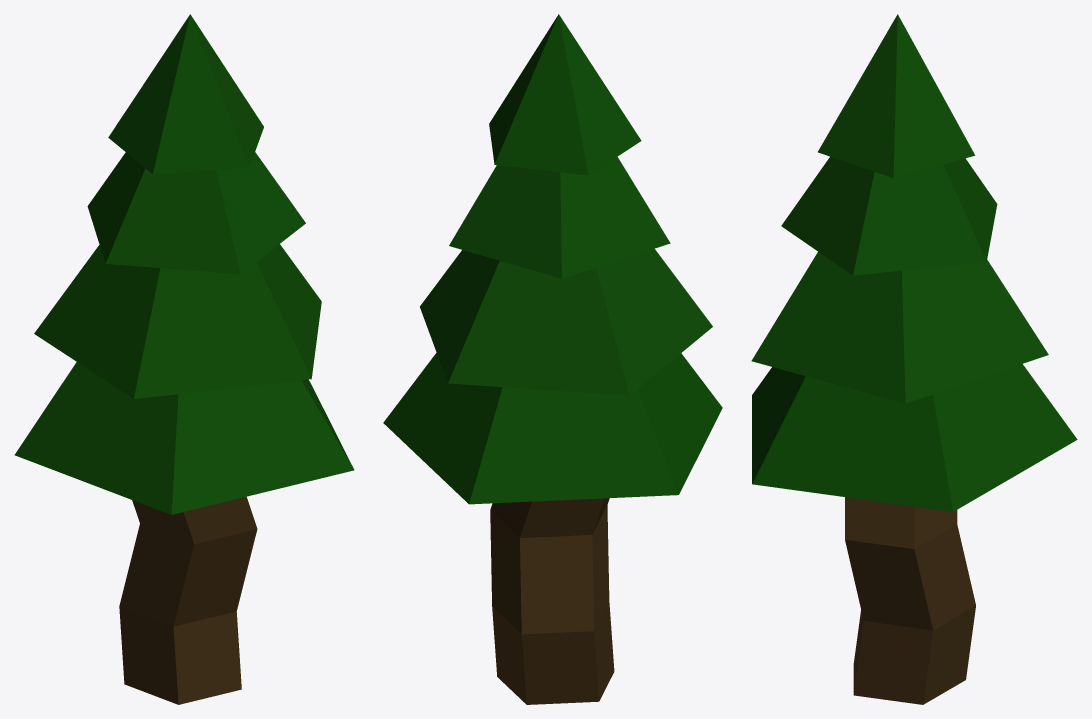
Rendered from Tree1.fbx.
3 views of the same model, side by side, from view 1: azimuth 30°, elevation 25°; view 2: azimuth 150°, elevation 25°; view 3: azimuth 270°, elevation 25° (orthographic).
Visible parts, largest first — view 1: Top, Trunk; view 2: Top, Trunk; view 3: Top, Trunk.
Part boxes in pixels (left/top/right/bottom): Top: left=14, top=14, right=354, bottom=514; Trunk: left=119, top=496, right=257, bottom=704; Top: left=383, top=14, right=722, bottom=504; Trunk: left=490, top=498, right=614, bottom=704; Top: left=751, top=14, right=1077, bottom=511; Trunk: left=845, top=497, right=975, bottom=704.
Size of the model in its own units: 108 by 231 by 103.
